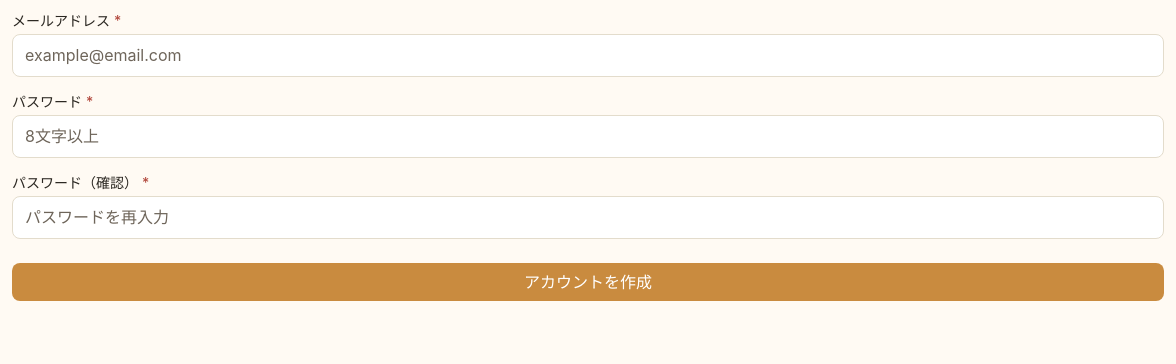
Test: SignupForm › バリデーション › 無効なメールアドレスでエラーが表示される
The image size is (1176, 364).
In the field labelled "メールアドレス*": (588, 55) x1=13 y1=34 x2=1163 y2=76, type "invalid-email"
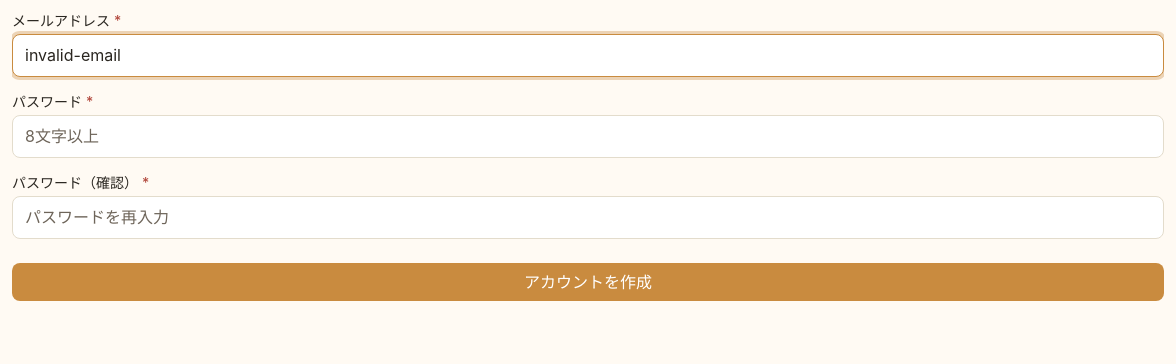
In the password field named "password": (588, 136) x1=13 y1=116 x2=1163 y2=157, type "password123"
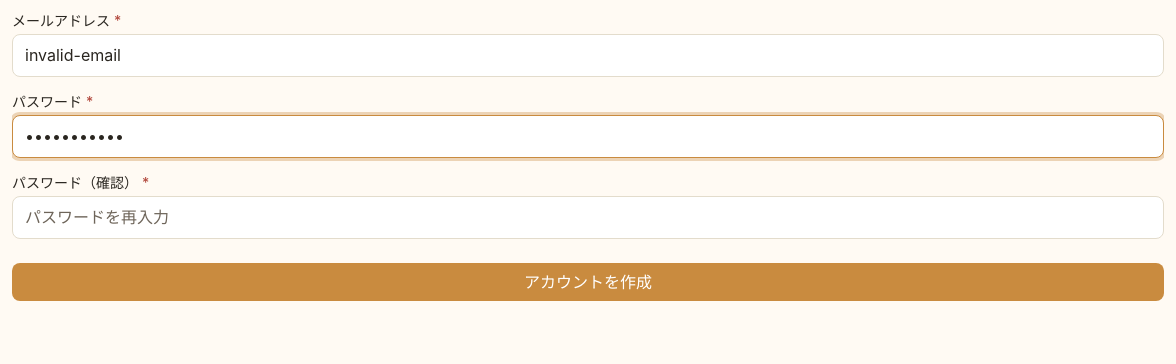
In the password field labelled "パスワード（確認）*": (588, 218) x1=13 y1=197 x2=1163 y2=238, type "password123"
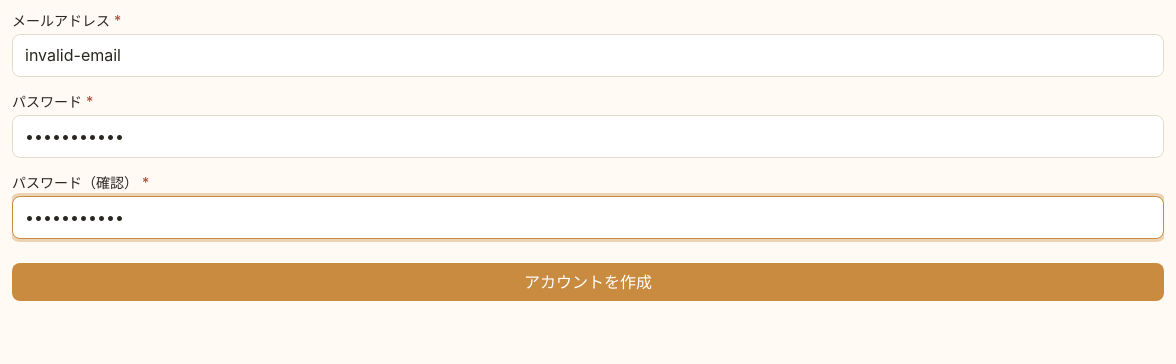
Click the button "アカウントを作成": (588, 282) x1=12 y1=263 x2=1164 y2=301
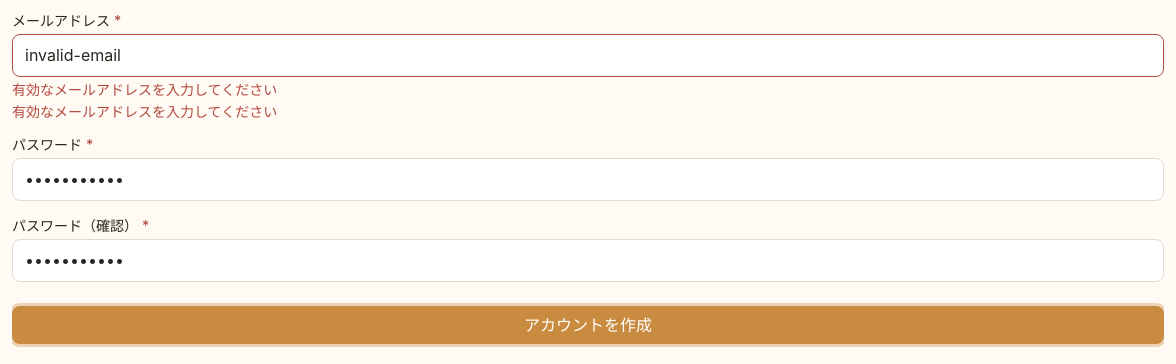
Expected: the 1st text "有効なメールアドレスを入力してください" is shown, x1=12 y1=81 x2=277 y2=98
